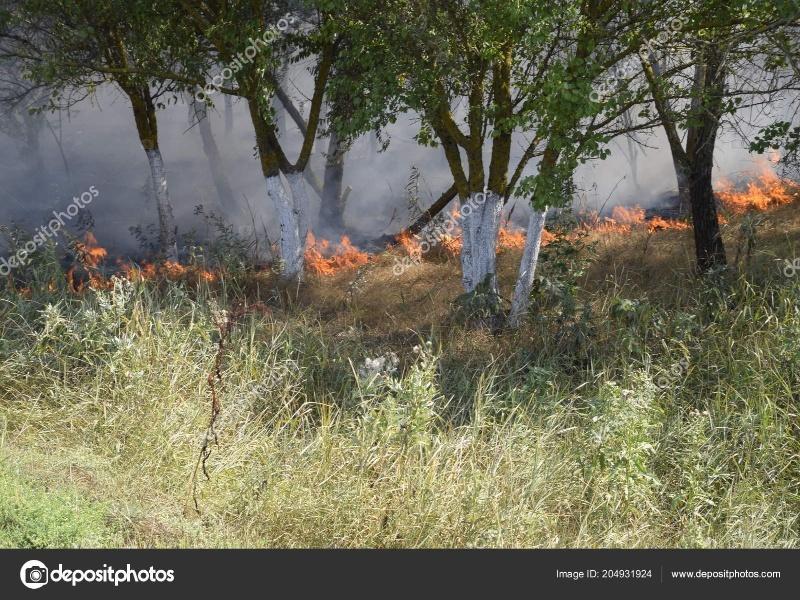smoke: (1, 89, 682, 207)
